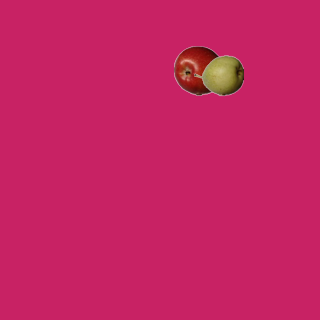Apple Braeburn: (173, 45, 223, 95)
Pear: (193, 50, 243, 100)
